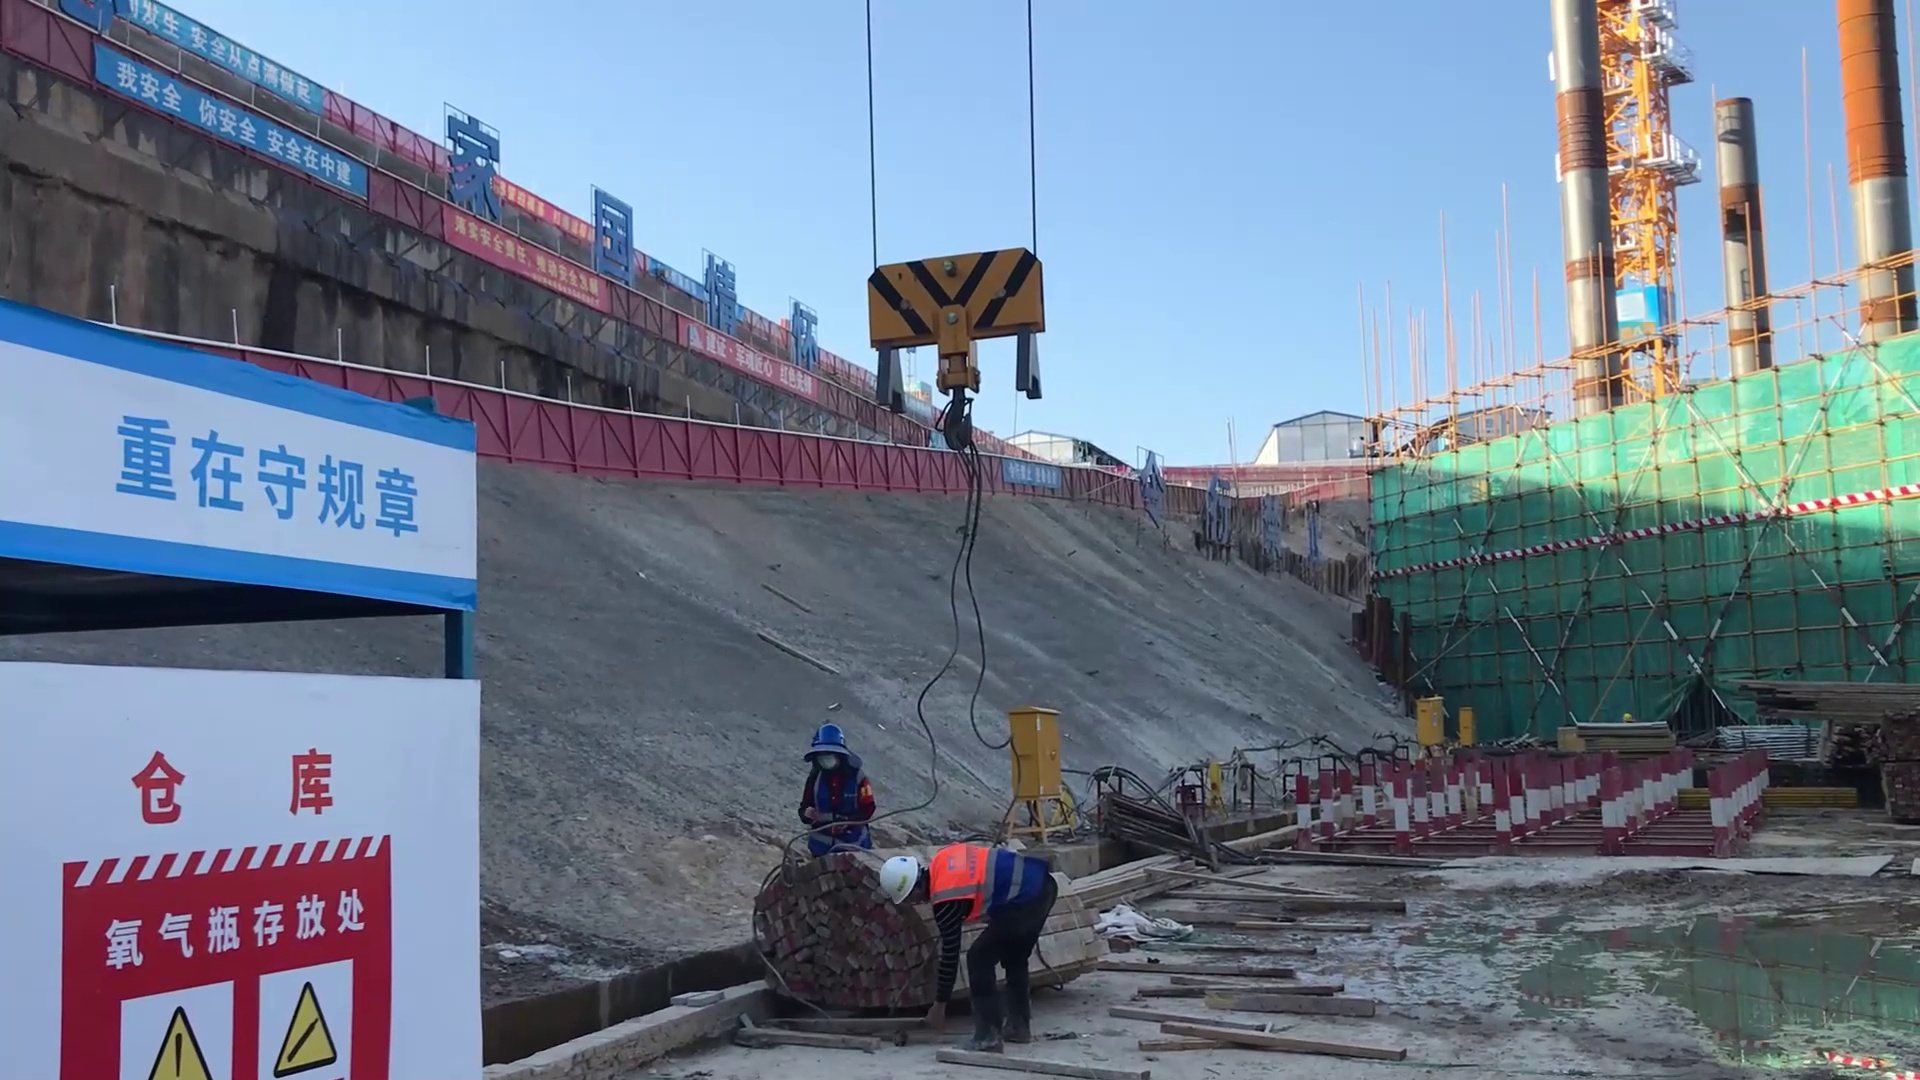ebox: (970, 692, 1078, 844), (1412, 694, 1442, 747), (1456, 697, 1483, 747)
fence: (471, 396, 773, 484), (763, 435, 952, 494)
helmet: (797, 723, 845, 771), (870, 851, 913, 906)
hook: (867, 227, 1044, 416)
person: (865, 834, 1073, 1052), (784, 705, 881, 855)
slogan: (95, 363, 470, 586), (97, 52, 373, 227), (403, 201, 633, 371), (110, 948, 376, 1080), (121, 1, 330, 141)
vest: (928, 839, 991, 926)
wood: (1130, 815, 1411, 1080), (738, 841, 882, 1011), (1734, 664, 1920, 717)
